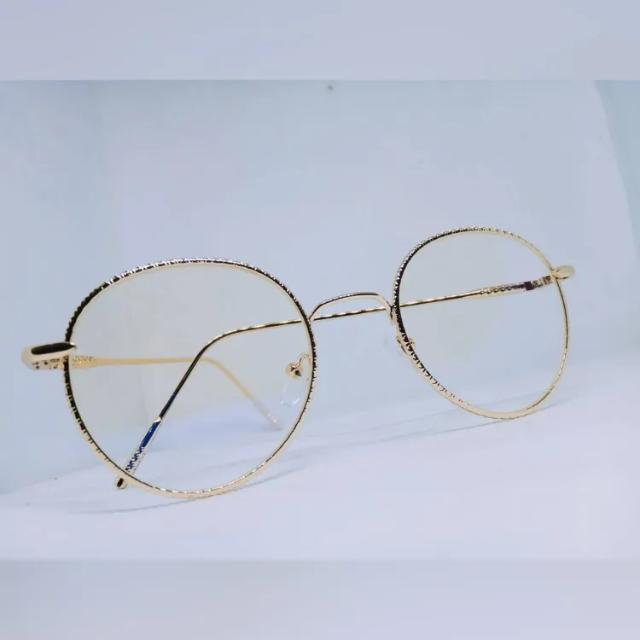glasses: (26, 237, 578, 481)
